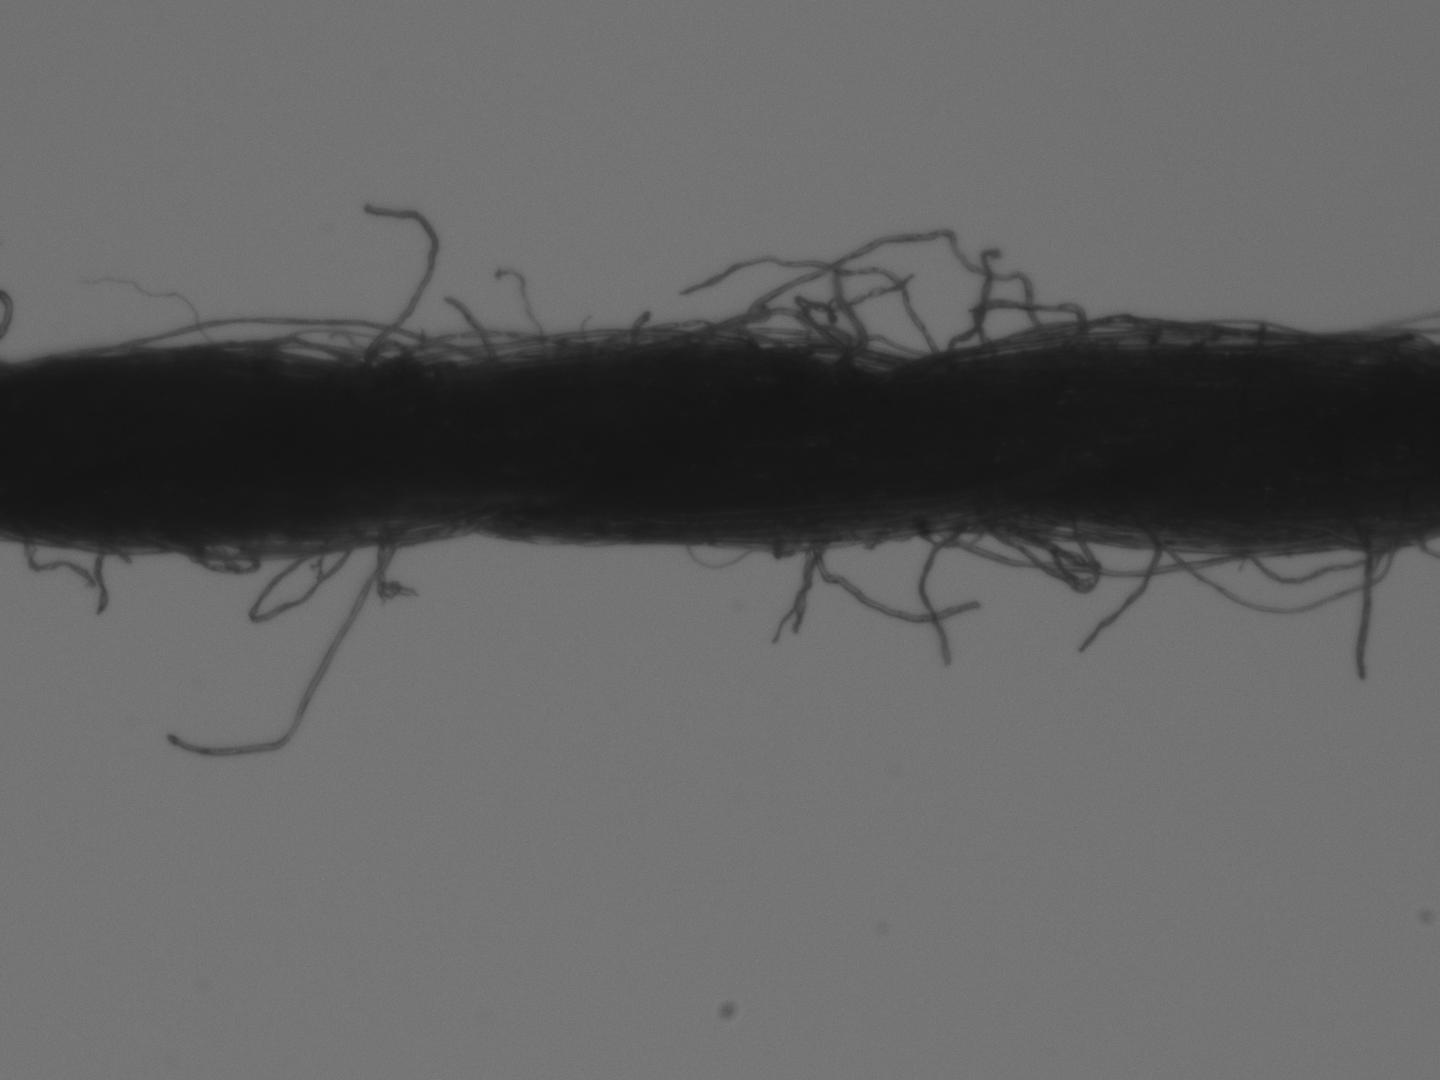loop_fiber: (913, 524, 1259, 579), (1157, 533, 1392, 611), (99, 313, 464, 362), (642, 307, 847, 368), (996, 312, 1302, 351), (976, 515, 1098, 593), (249, 540, 354, 625), (388, 326, 591, 369), (1240, 528, 1404, 580), (971, 298, 1087, 354), (245, 330, 379, 368), (844, 331, 933, 369), (175, 534, 253, 574), (356, 340, 417, 376)
protruding_fiber: (164, 547, 388, 762), (347, 203, 440, 370), (811, 546, 982, 626), (1078, 528, 1163, 651), (949, 245, 1008, 361), (917, 518, 963, 660), (447, 290, 492, 362), (1357, 541, 1373, 683)
